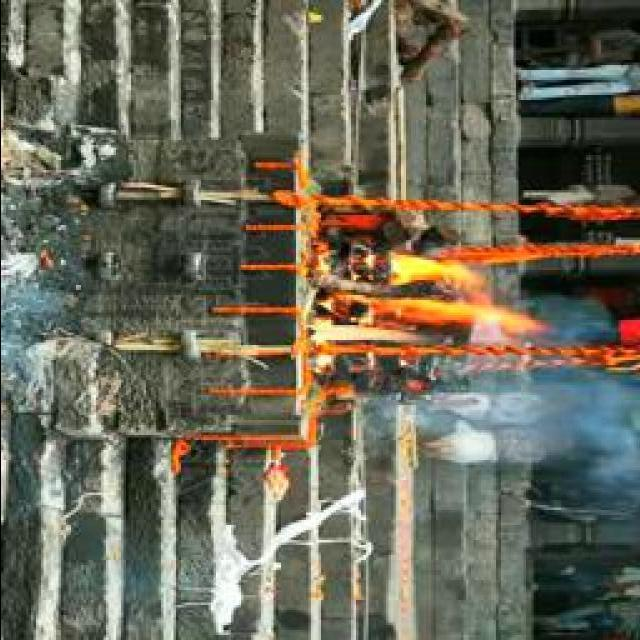Fire: (310, 252, 520, 347)
